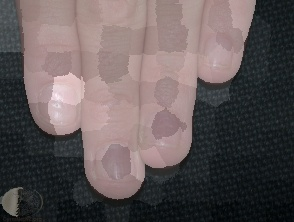Nail_psoriasis: (137, 105, 183, 152), (46, 87, 72, 117)
